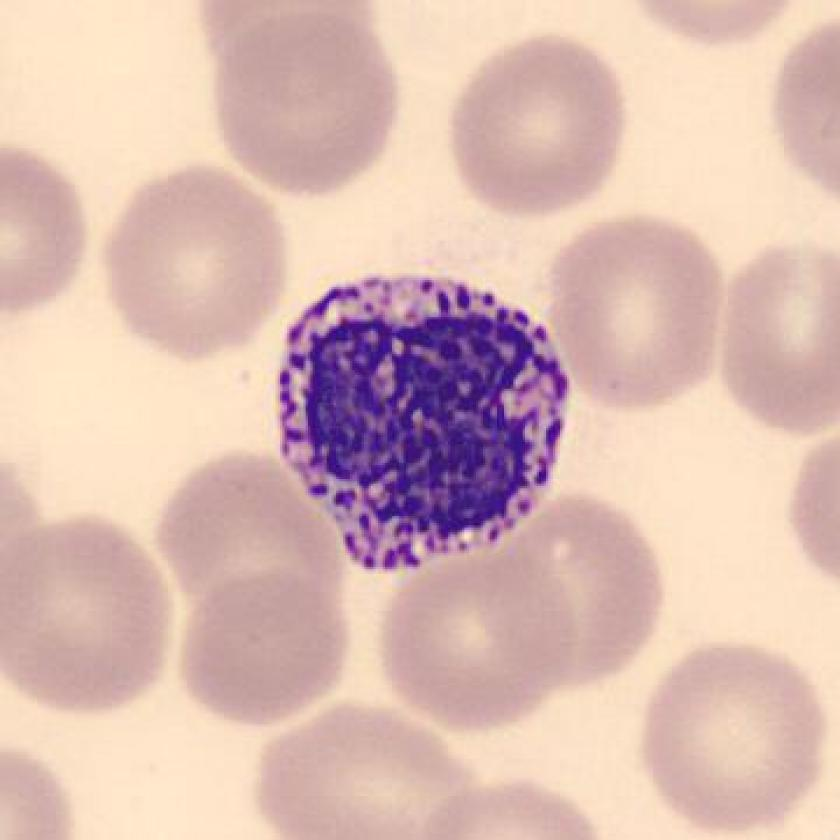basophil: (276, 265, 575, 577)
